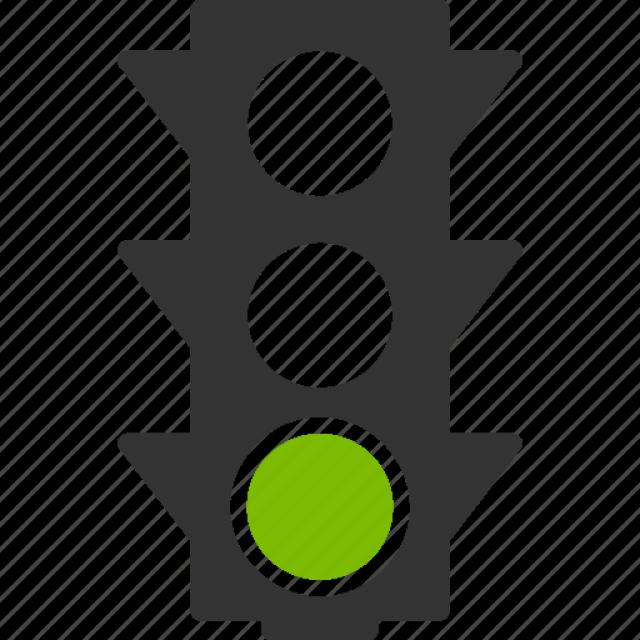green: (229, 427, 412, 588)
